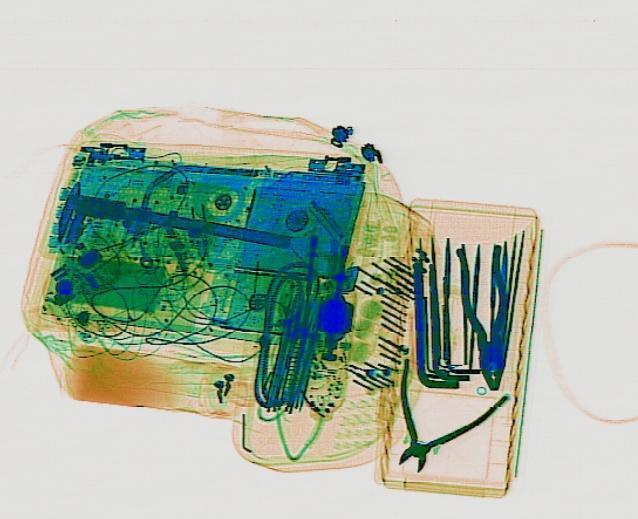Pliers: (356, 357, 516, 485), (452, 241, 520, 390)
